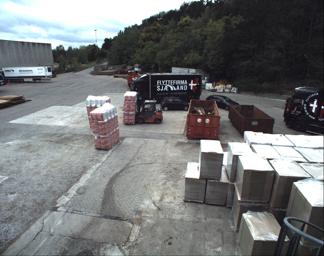rockwool_batts: (92, 104, 119, 150), (84, 94, 109, 116), (123, 89, 134, 124)
